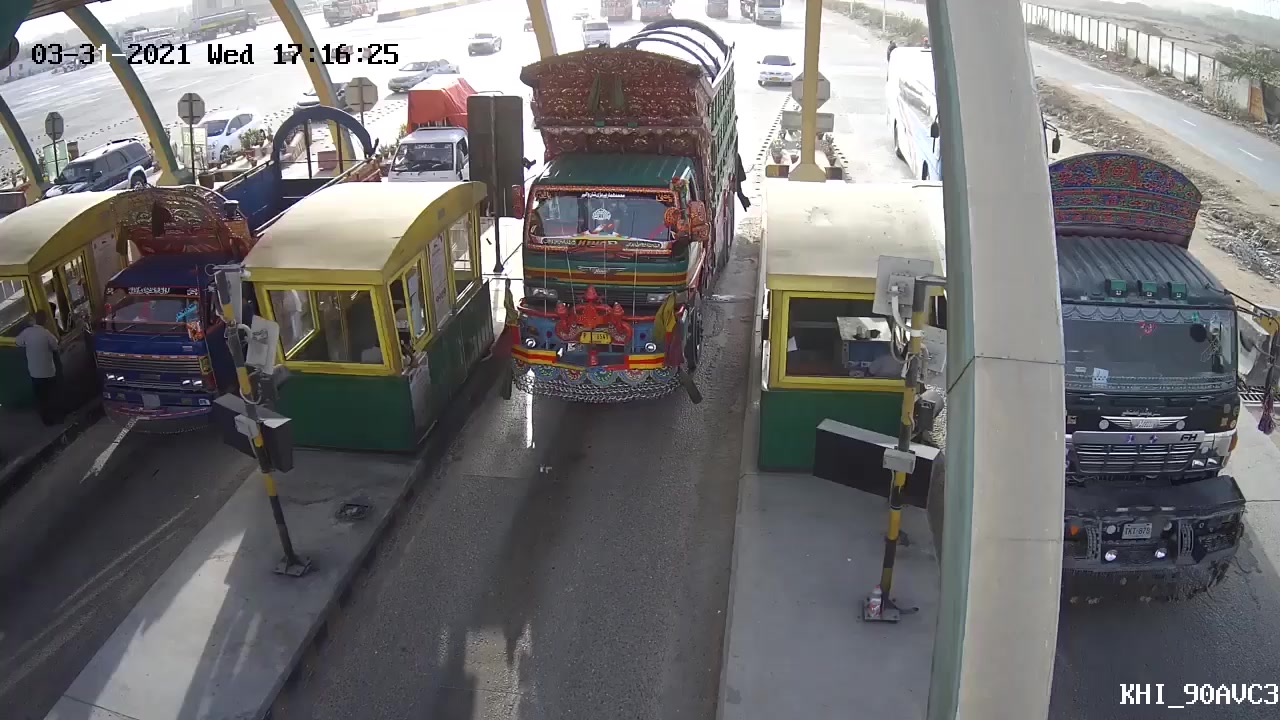F5: (504, 18, 752, 416)
